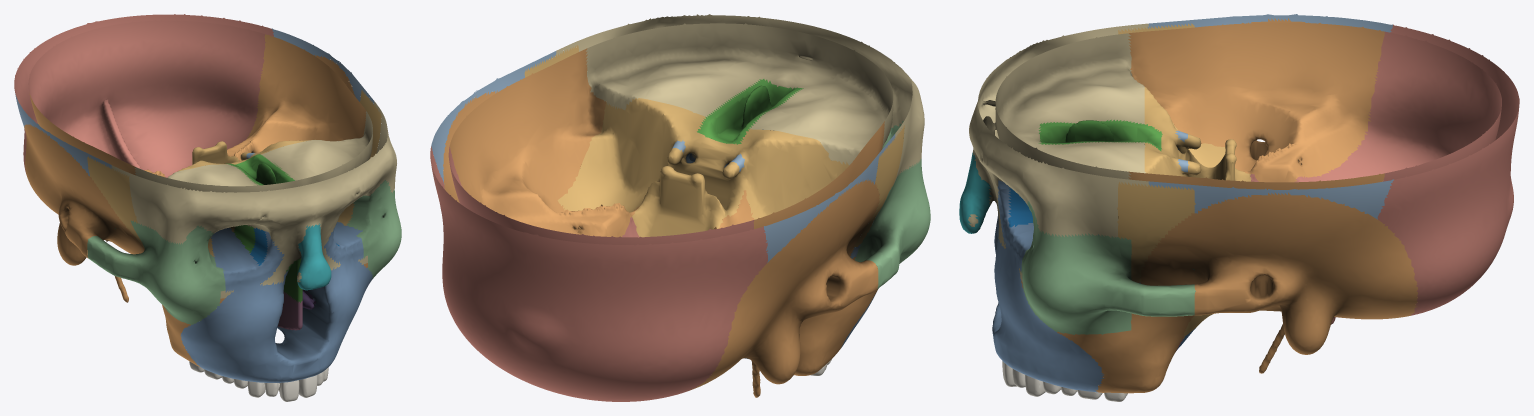
The model's file is craneo-base.glb.
The picture shows the model from 3 angles, left to right: view 1: azimuth 30°, elevation 25°; view 2: azimuth 150°, elevation 25°; view 3: azimuth 270°, elevation 25°; orthographic projection. The views are drawn at different scales.
Parts seen in each view (by area): view 1: occipital, frontal, maxilla_R, temporal_L, temporal_R, zygomatic_R, maxilla_L, sphenoid, zygomatic_L, ethmoid, nasal_R, parietal_L (+6 smaller); view 2: occipital, frontal, sphenoid, temporal_R, temporal_L, zygomatic_R, ethmoid, parietal_R, parietal_L; view 3: temporal_L, occipital, temporal_R, frontal, zygomatic_L, sphenoid, maxilla_L, parietal_L, ethmoid, parietal_R, nasal_L, lacrimal_L.
Part boxes in pixels (left/top/right/bottom): occipital: left=14, top=14, right=273, bottom=177; frontal: left=111, top=101, right=396, bottom=298; maxilla_R: left=180, top=227, right=307, bottom=382; temporal_L: left=227, top=34, right=368, bottom=267; temporal_R: left=24, top=94, right=225, bottom=367; zygomatic_R: left=87, top=220, right=225, bottom=324; maxilla_L: left=277, top=222, right=373, bottom=378; sphenoid: left=87, top=90, right=381, bottom=256; zygomatic_L: left=346, top=180, right=401, bottom=278; ethmoid: left=226, top=154, right=302, bottom=302; nasal_R: left=297, top=225, right=320, bottom=290; parietal_L: left=245, top=28, right=374, bottom=159; occipital: left=430, top=146, right=767, bottom=401; frontal: left=556, top=14, right=924, bottom=183; sphenoid: left=524, top=45, right=904, bottom=247; temporal_R: left=689, top=121, right=884, bottom=397; temporal_L: left=443, top=48, right=660, bottom=237; zygomatic_R: left=855, top=121, right=930, bottom=288; ethmoid: left=697, top=79, right=803, bottom=144; parietal_R: left=724, top=134, right=895, bottom=262; parietal_L: left=431, top=51, right=695, bottom=184; temporal_L: left=1021, top=171, right=1417, bottom=393; occipital: left=1175, top=24, right=1519, bottom=352; temporal_R: left=1128, top=18, right=1384, bottom=182; frontal: left=968, top=23, right=1148, bottom=281; zygomatic_L: left=1021, top=201, right=1195, bottom=334; sphenoid: left=1117, top=23, right=1251, bottom=339; maxilla_L: left=992, top=180, right=1104, bottom=392; parietal_L: left=1139, top=159, right=1393, bottom=283; ethmoid: left=1038, top=119, right=1162, bottom=151; parietal_R: left=1147, top=14, right=1392, bottom=149; nasal_L: left=959, top=152, right=991, bottom=233; lacrimal_L: left=1008, top=186, right=1032, bottom=227.
Size of the model in its own units: 0.1489 by 0.1107 by 0.2018.
